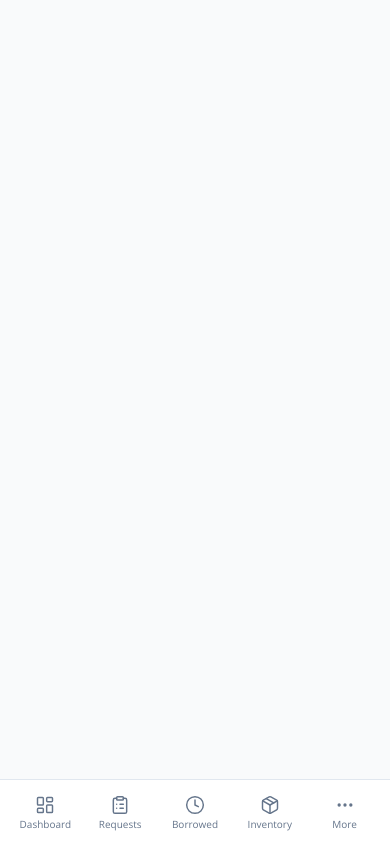
Stage 1 Navigation & Shell Architecture › opens Board More bottom sheet with secondary management links
Click the button with aria-label "More Board Options" at (345, 812), box [307,784,382,840]
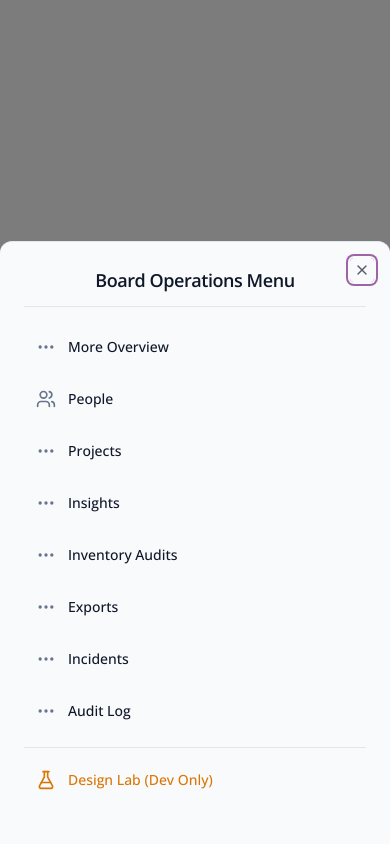
Result: the heading "Board Operations Menu" is shown at [95,268,295,292]
Result: the text "People" is shown at [68,389,113,409]
Result: the text "Projects" is shown at [68,441,121,461]
